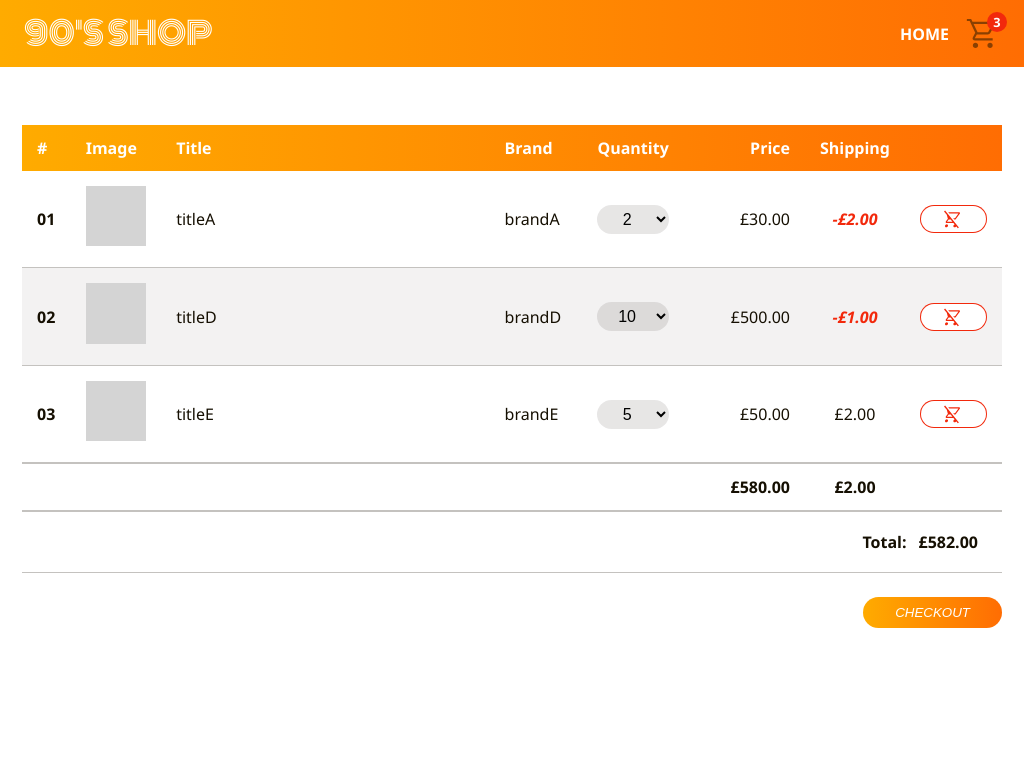
Test: Cart page › Total values after remove product from slice
The image size is (1024, 768).
Expected: the cell with test id "total-products" is shown, [684,463,805,511]
Expected: the cell with test id "total-products" reads "£580.00", [730,476,790,498]
Remove product from the slice
Click the button with test id "remove-from-cart" in the row of "03" at point(954, 414), box [920,400,987,428]
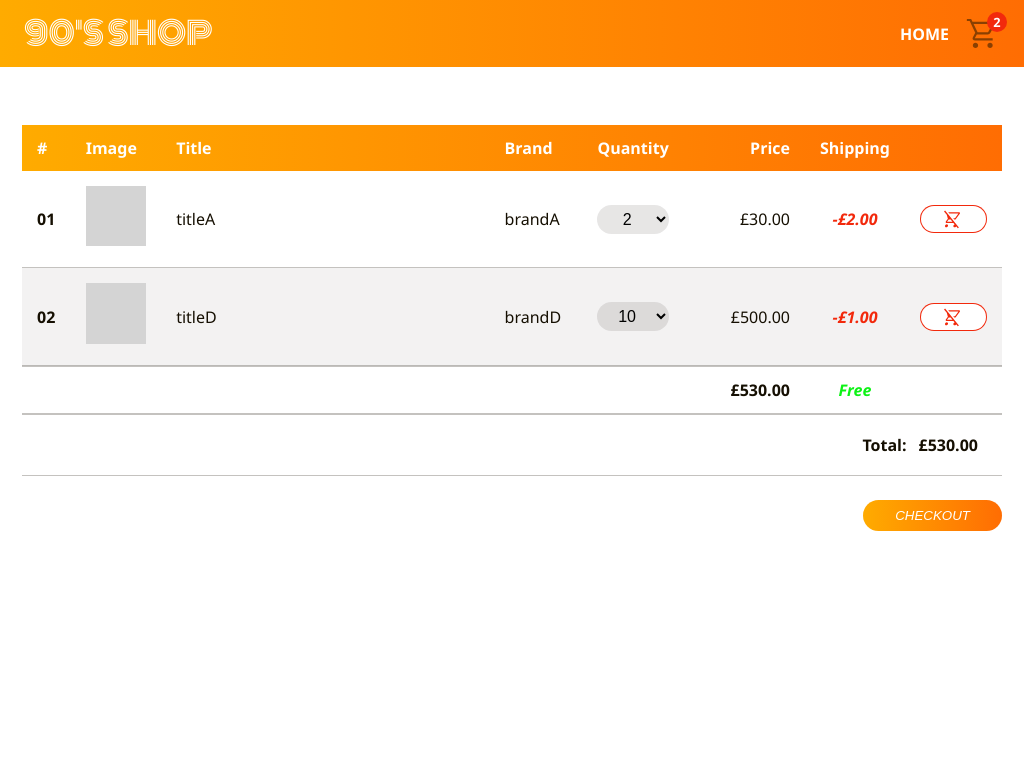
Expected: the cell with test id "total-products" is shown, [684,366,805,414]
Now the number of rows with test id "table-row" is 2, box [22,171,1002,268]; [22,268,1002,366]
Now the cell with test id "total-products" reads "£530.00", box [730,379,790,401]
